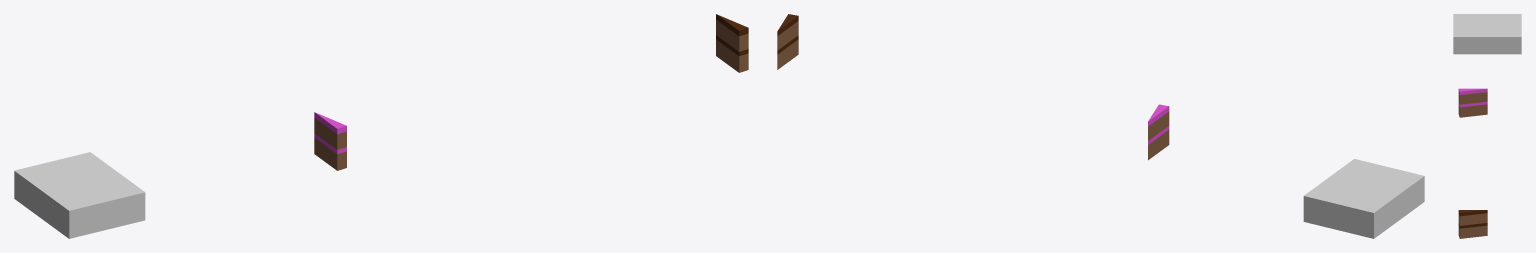
File: Cake.fbx
3 views of the same model, side by side, from view 1: azimuth 30°, elevation 25°; view 2: azimuth 150°, elevation 25°; view 3: azimuth 270°, elevation 25° (orthographic). The views are drawn at different scales.
Visible parts, largest first — view 1: _Cake_Sheetcake, _Piece_Strawberry, _Piece_Chocolate; view 2: _Cake_Sheetcake, _Piece_Chocolate, _Piece_Strawberry; view 3: _Cake_Sheetcake, _Piece_Strawberry, _Piece_Chocolate.
Part boxes in pixels (x1,y1,x2,y2): _Cake_Sheetcake: (14,152,145,238); _Piece_Strawberry: (314,112,346,170); _Piece_Chocolate: (716,14,748,72); _Cake_Sheetcake: (1303,159,1424,238); _Piece_Chocolate: (777,14,798,69); _Piece_Strawberry: (1148,104,1169,160); _Cake_Sheetcake: (1453,14,1521,54); _Piece_Strawberry: (1458,88,1487,117); _Piece_Chocolate: (1458,210,1487,238).
Bounding box in the file's own units: 341 × 47.43 × 20.
